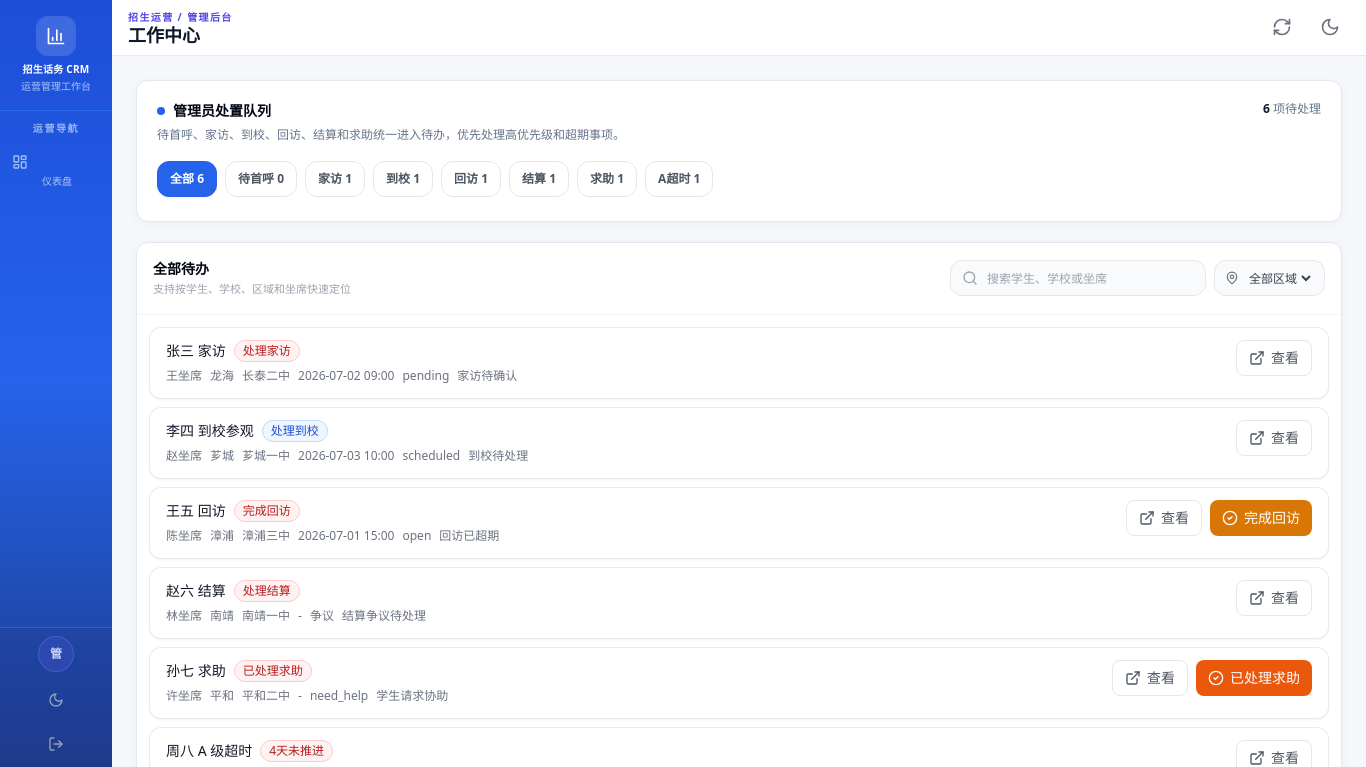
it: AdminWorkCenter › filters the queue locally by student, school, or agent
The width and height of the screenshot is (1366, 767).
Check: the text "张三 家访" is shown, box [166,340,226,360]
Type "周八" into the search field.
click(1078, 278); type("周八")  # box [950,260,1206,296]
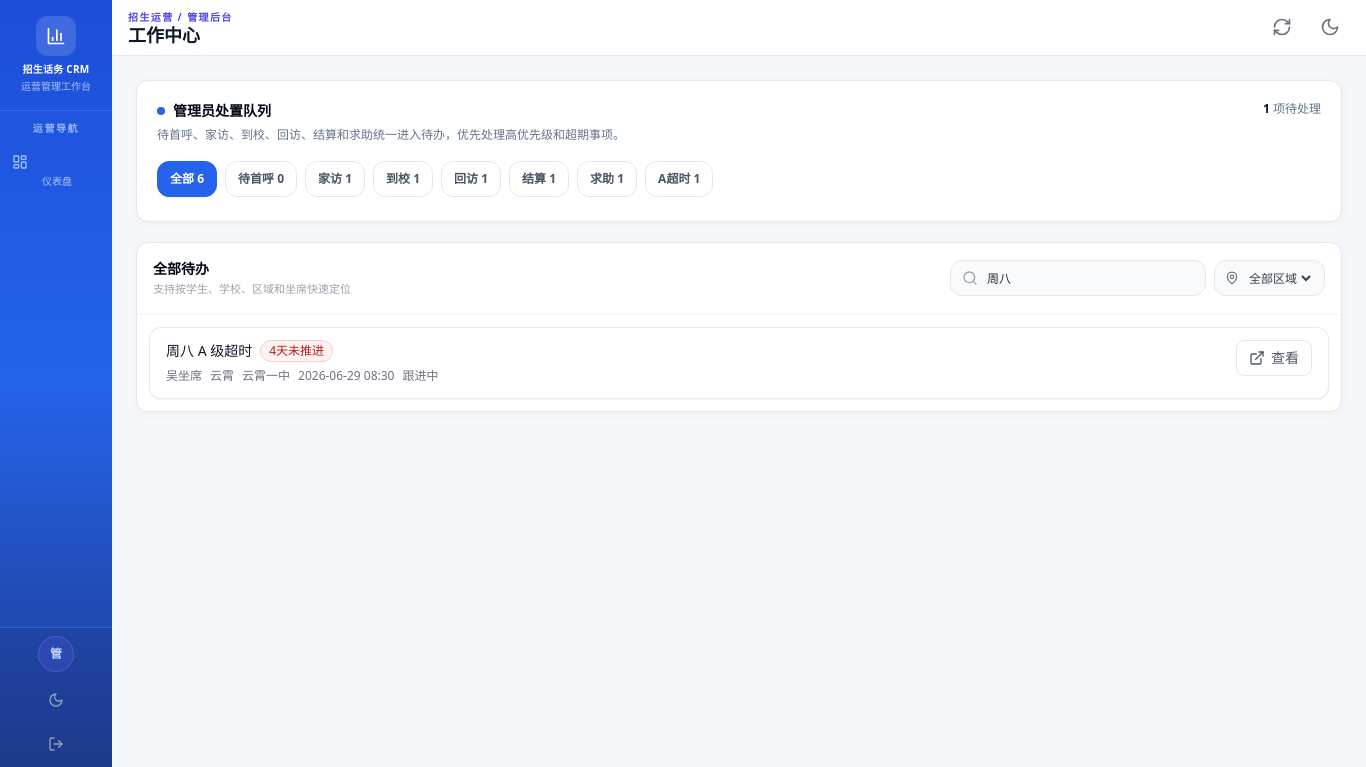
Check: the text "周八 A 级超时" is shown, box [166,340,252,360]
Check: the text "张三 家访" is gone
